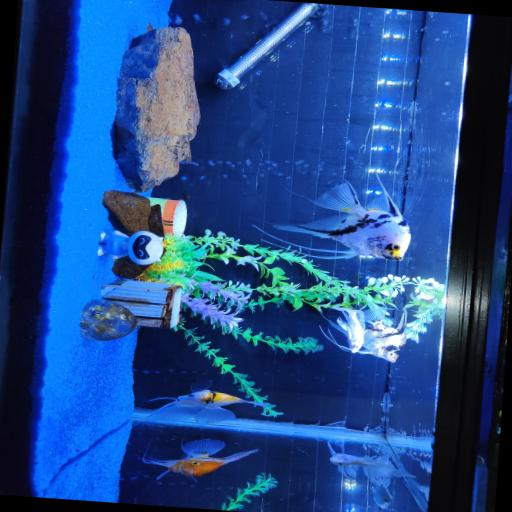Fish: (273, 175, 410, 259), (147, 379, 271, 423), (141, 438, 257, 477), (327, 441, 403, 480), (357, 306, 406, 361), (331, 305, 364, 352), (371, 478, 391, 508)
